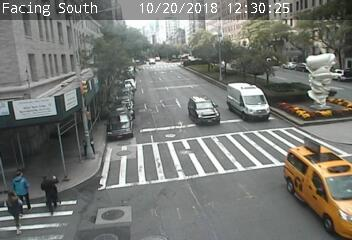car: (285, 138, 352, 240), (226, 82, 269, 120), (188, 96, 219, 126)
